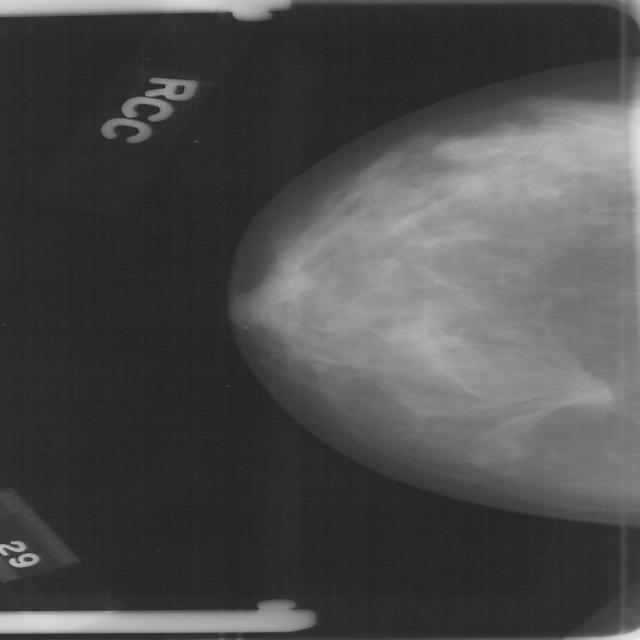tumour: (558, 368, 618, 413)
